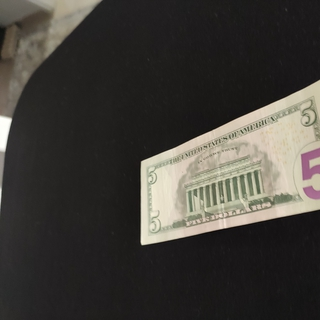5USDBack: (140, 78, 320, 246)
